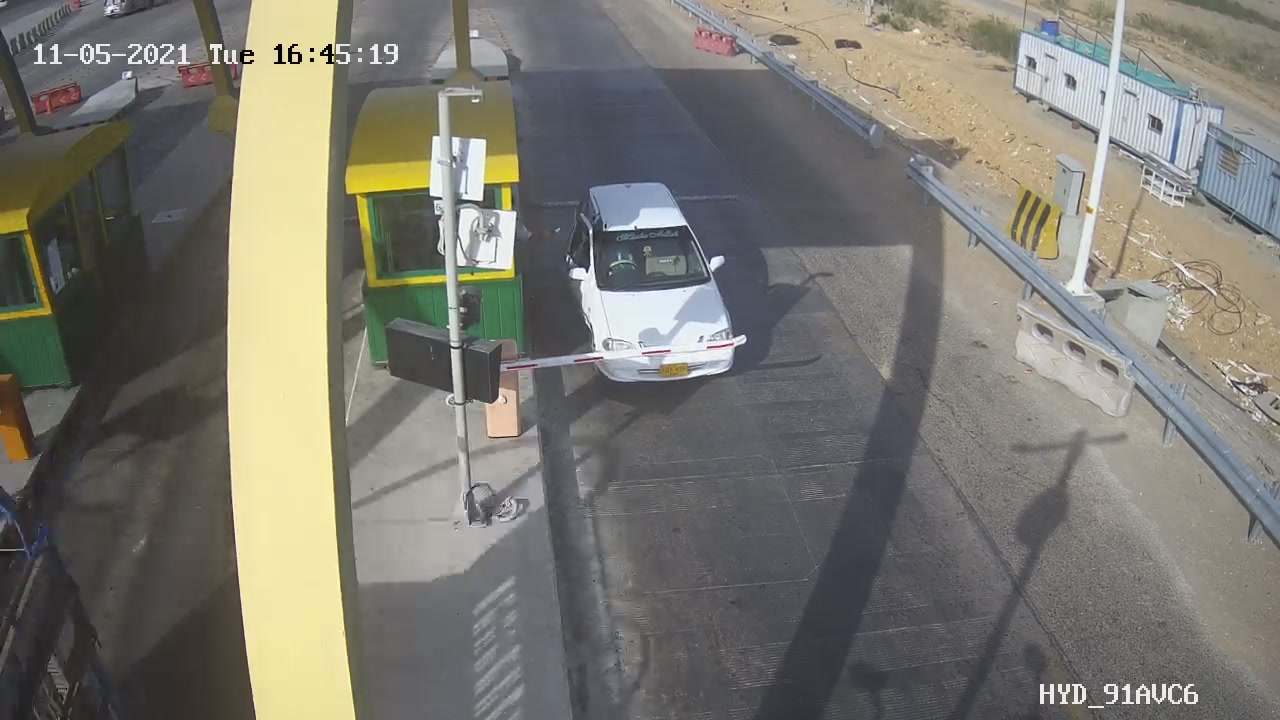F1: (544, 169, 769, 400)
